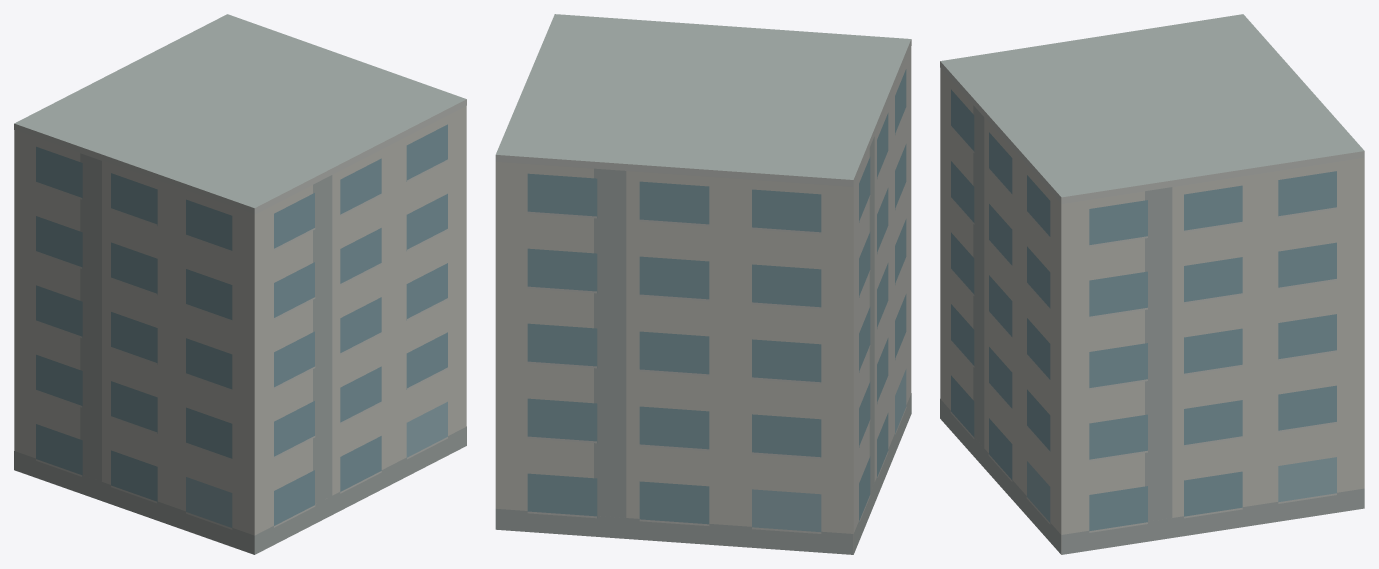
File: survey-upis-32960543.glb
3 views of the same model, side by side, from view 1: azimuth 30°, elevation 25°; view 2: azimuth 150°, elevation 25°; view 3: azimuth 270°, elevation 25° (orthographic). The views are drawn at different scales.
Visible parts, largest first — view 1: survey-upis-32960543.tmp; view 2: survey-upis-32960543.tmp; view 3: survey-upis-32960543.tmp.
Part boxes in pixels (bbox=[...]): survey-upis-32960543.tmp: bbox=[14, 14, 466, 554]; survey-upis-32960543.tmp: bbox=[495, 14, 911, 554]; survey-upis-32960543.tmp: bbox=[940, 14, 1364, 554].
Bounding box in the file's own units: 14.53 × 13.2 × 14.22.
